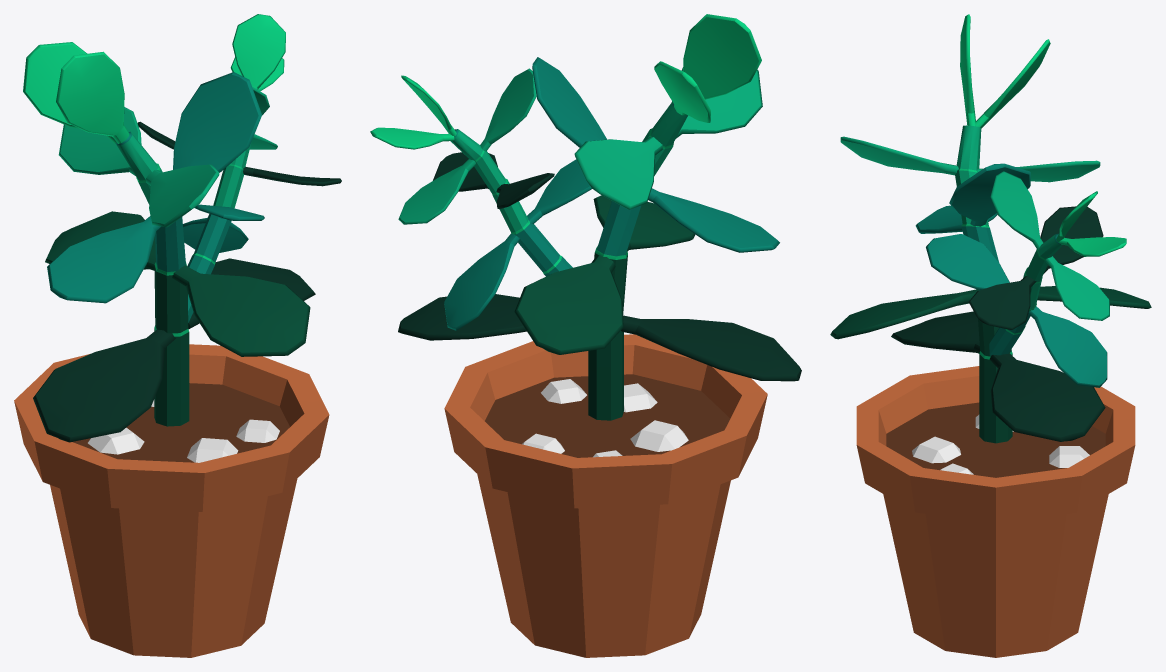
The model's file is PW_sculent01_M.fbx.
3 renders of one model, left to right at view 1: azimuth 30°, elevation 25°; view 2: azimuth 150°, elevation 25°; view 3: azimuth 270°, elevation 25°, orthographic. The views are drawn at different scales.
Parts seen in each view (by area): view 1: polySurface11, pot, polySurface1, soil, rock; view 2: pot, polySurface11, soil, polySurface1, rock; view 3: pot, polySurface11, soil, polySurface1, rock.
Part boxes in pixels (x1,y1,x2,y2): polySurface11: [23, 14, 341, 442]; pot: [14, 344, 329, 657]; polySurface1: [116, 131, 250, 426]; soil: [73, 383, 289, 462]; rock: [88, 399, 279, 462]; pot: [444, 334, 767, 657]; polySurface11: [370, 14, 801, 381]; soil: [485, 374, 730, 457]; polySurface1: [450, 102, 687, 420]; rock: [522, 379, 688, 457]; pot: [856, 366, 1135, 657]; polySurface11: [830, 14, 1151, 441]; soil: [886, 402, 1105, 477]; polySurface1: [955, 125, 1062, 443]; rock: [912, 414, 1089, 474].
Size of the model in its own units: 59.05 by 105 by 54.73.
1 material, 1 textured.
